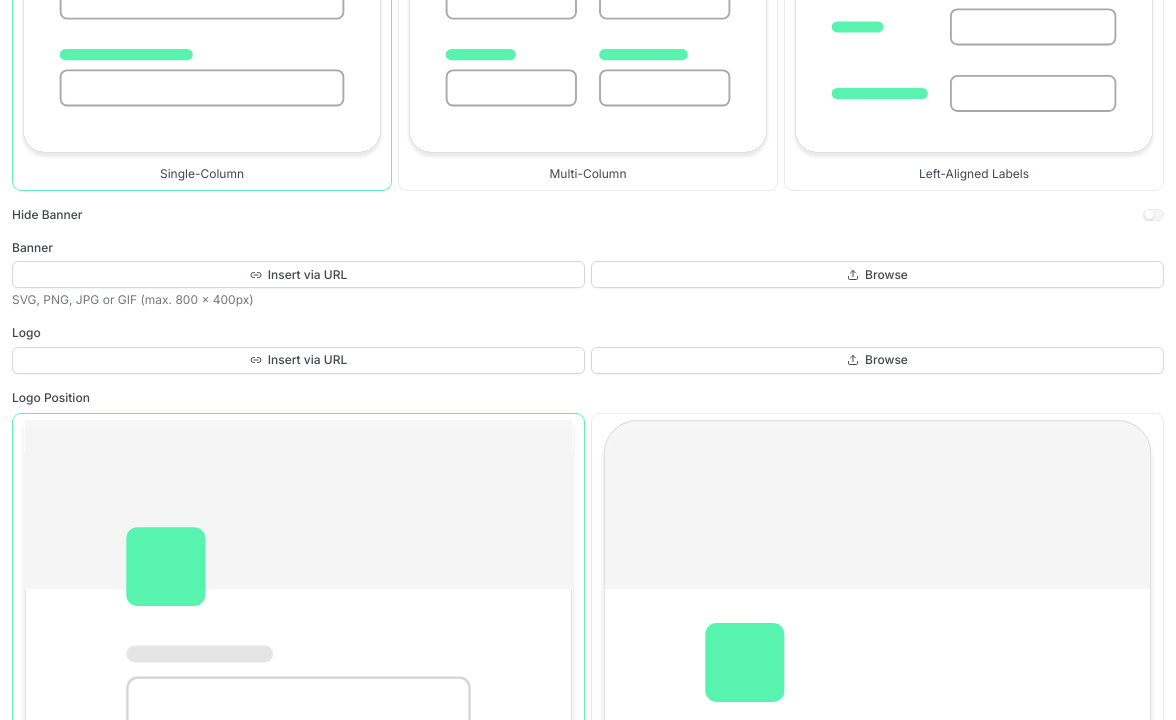
Test case: AppearanceSettings › URL input buttons › shows validation error for invalid banner URL
The width and height of the screenshot is (1176, 720).
(page scrolled)
Click the 2nd button "Insert via URL". click: click(298, 360)
box: x1=12 y1=346 x2=585 y2=374
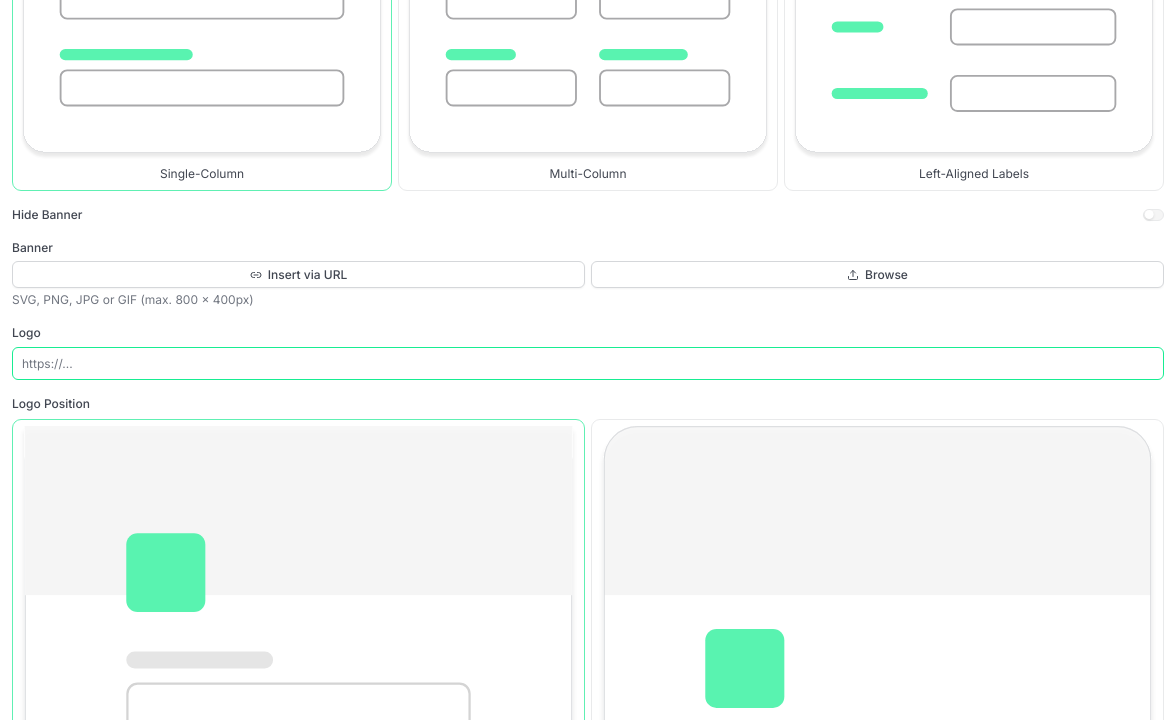
Type "bad-url" into the field with placeholder "https://...". click: (588, 363)
box: x1=12 y1=346 x2=1164 y2=380
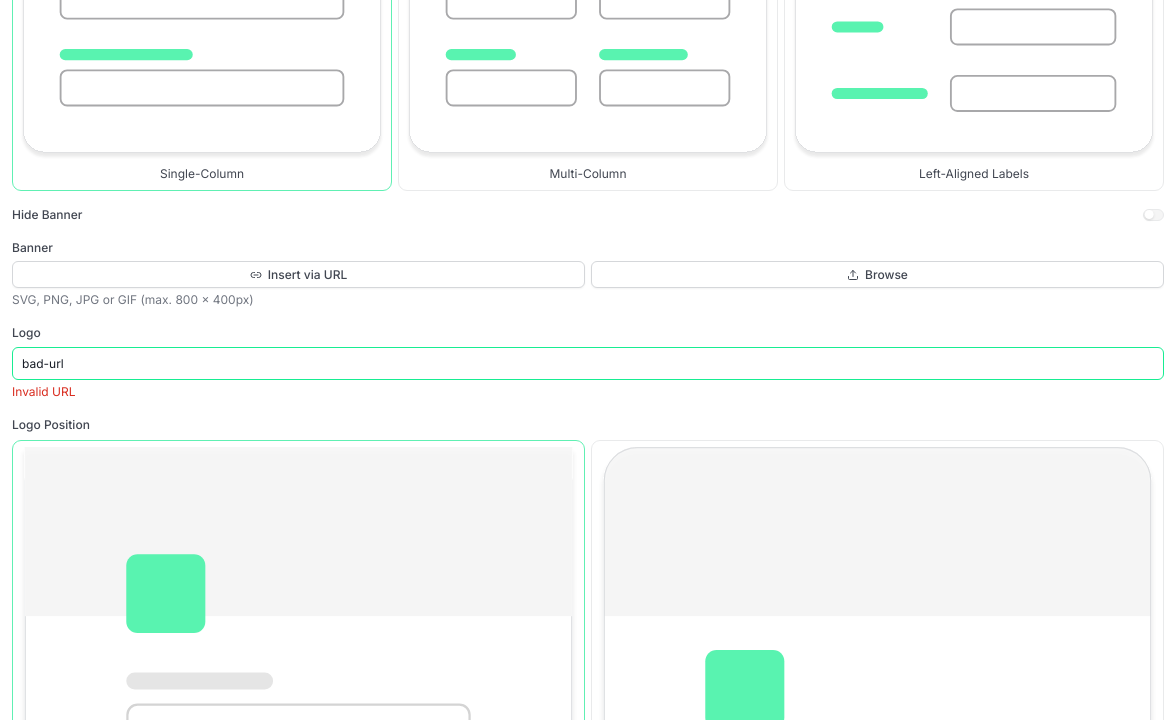
Check: the text "Invalid URL" is shown, box x1=12 y1=384 x2=76 y2=398
